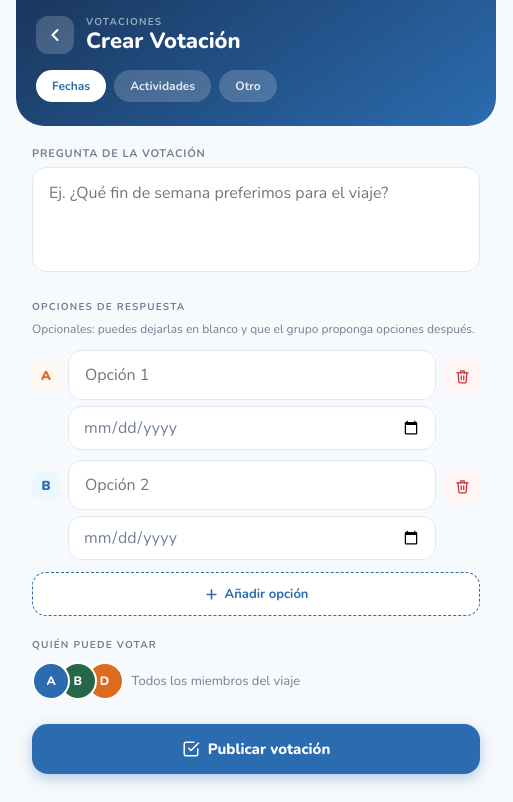
it: CrearVotacion › si el servidor la rechaza muestra el motivo y se puede volver a intentar
Expected: the text "Crear Votación" is shown, [86,29,241,54]
Type "¿Dónde dormimos?" into the text box labelled "Pregunta de la votación" at (256,220), box [32,167,480,272]
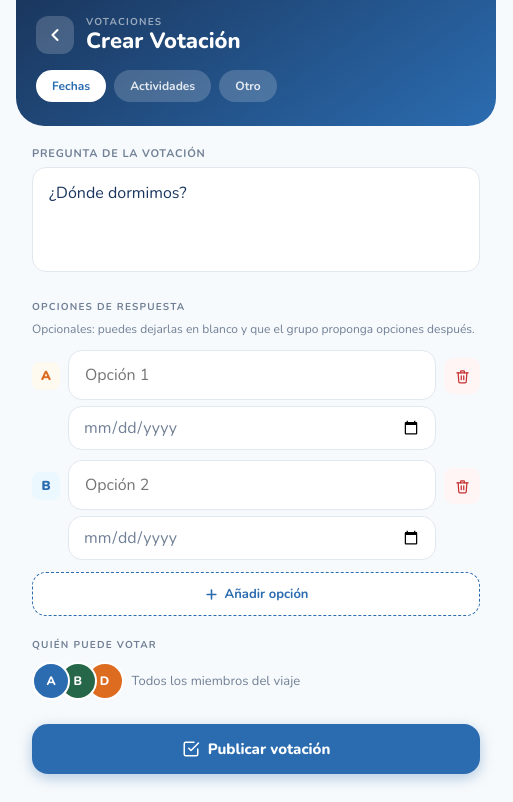
Type "Hotel" into the field named "Opción A" at (252,375), box [68,350,436,400]
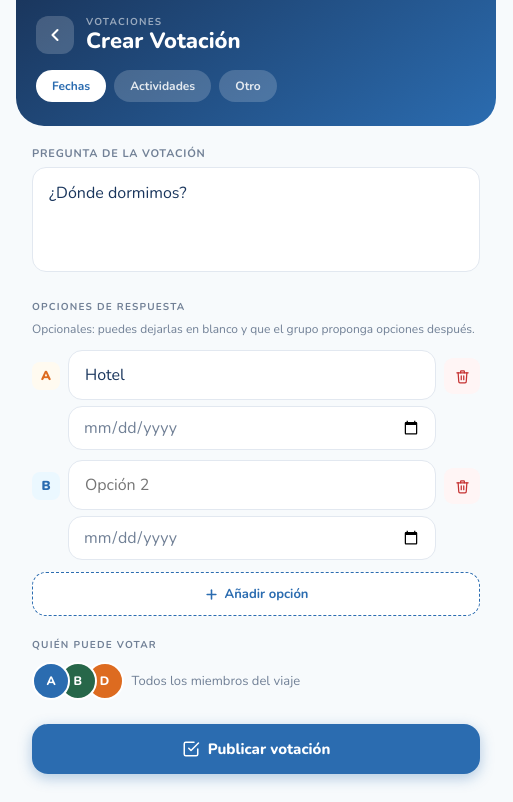
Type "Apartamento" into the field named "Opción B" at (252,485), box [68,460,436,510]
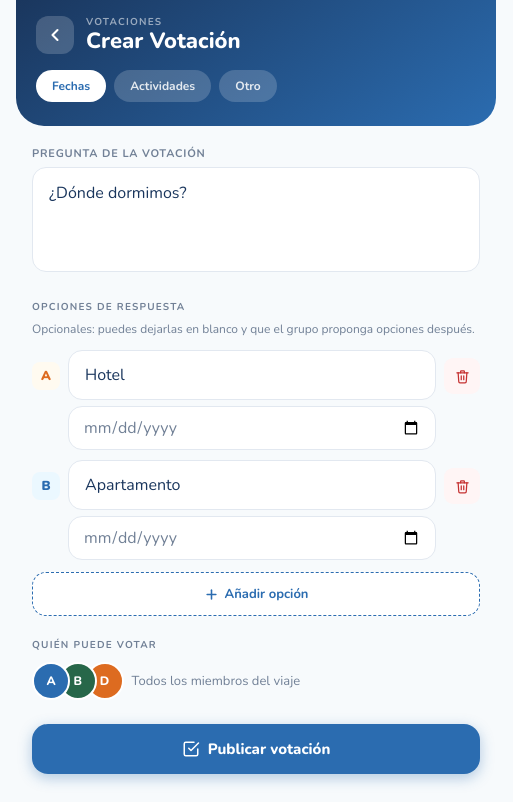
Click the button "Publicar votación" at (256,749), box [32,724,480,774]
(page scrolled)
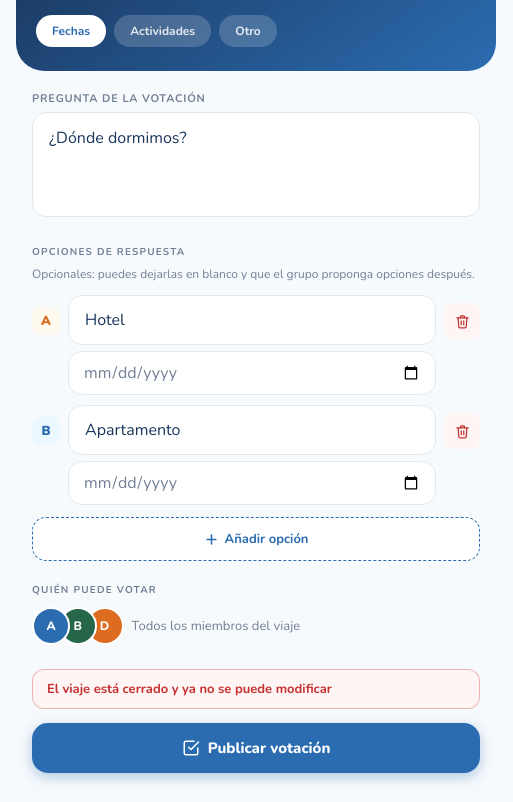
Expected: the message reads "El viaje está cerrado y ya no se puede modificar", [47,680,332,698]
